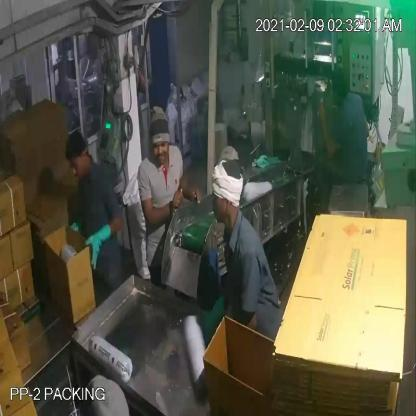glove: (84, 223, 118, 274)
no_glove: (314, 93, 344, 170), (137, 188, 187, 223), (176, 168, 200, 206)
